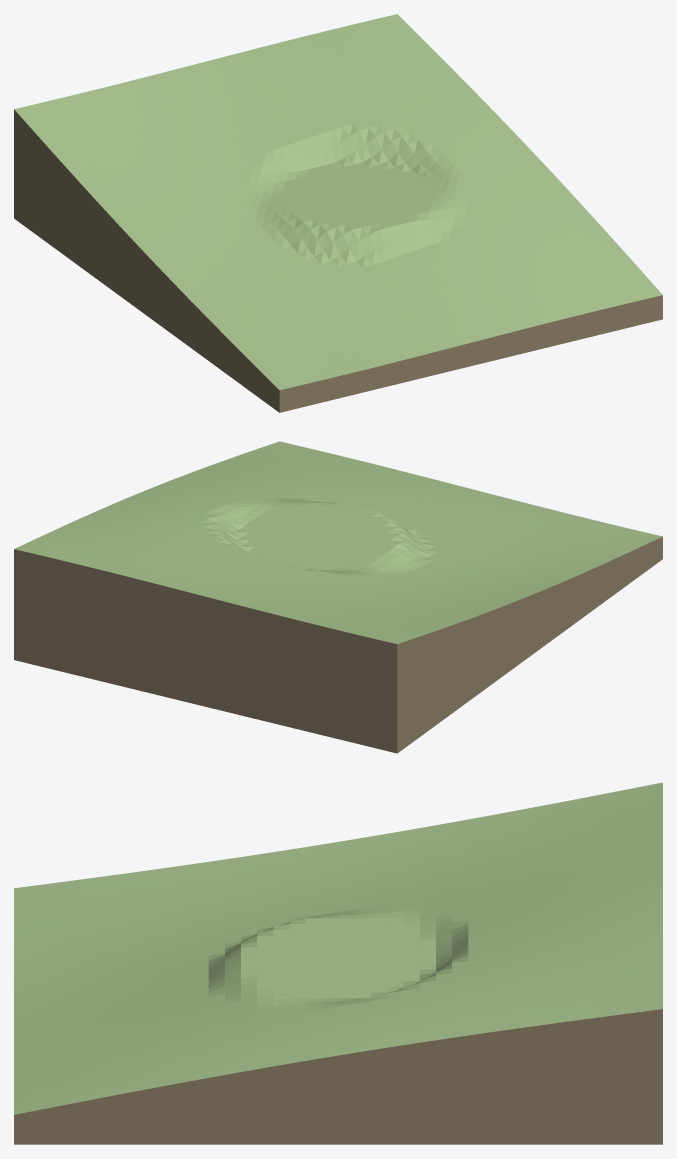
File: terrain.glb
3 renders of one model, top to bottom at view 1: azimuth 30°, elevation 25°; view 2: azimuth 150°, elevation 25°; view 3: azimuth 270°, elevation 25°, orthographic. The views are drawn at different scales.
Visible parts, largest first — view 1: Local hillside editable mesh, Terrain earth sides; view 2: Local hillside editable mesh, Terrain earth sides; view 3: Local hillside editable mesh, Terrain earth sides.
Part boxes in pixels (bbox=[...]): Local hillside editable mesh: bbox=[14, 14, 662, 389]; Terrain earth sides: bbox=[14, 109, 662, 412]; Local hillside editable mesh: bbox=[14, 441, 662, 644]; Terrain earth sides: bbox=[14, 536, 662, 753]; Local hillside editable mesh: bbox=[14, 782, 662, 1114]; Terrain earth sides: bbox=[14, 1009, 662, 1144].
Bounding box in the file's own units: 20 × 5.55 × 24.
